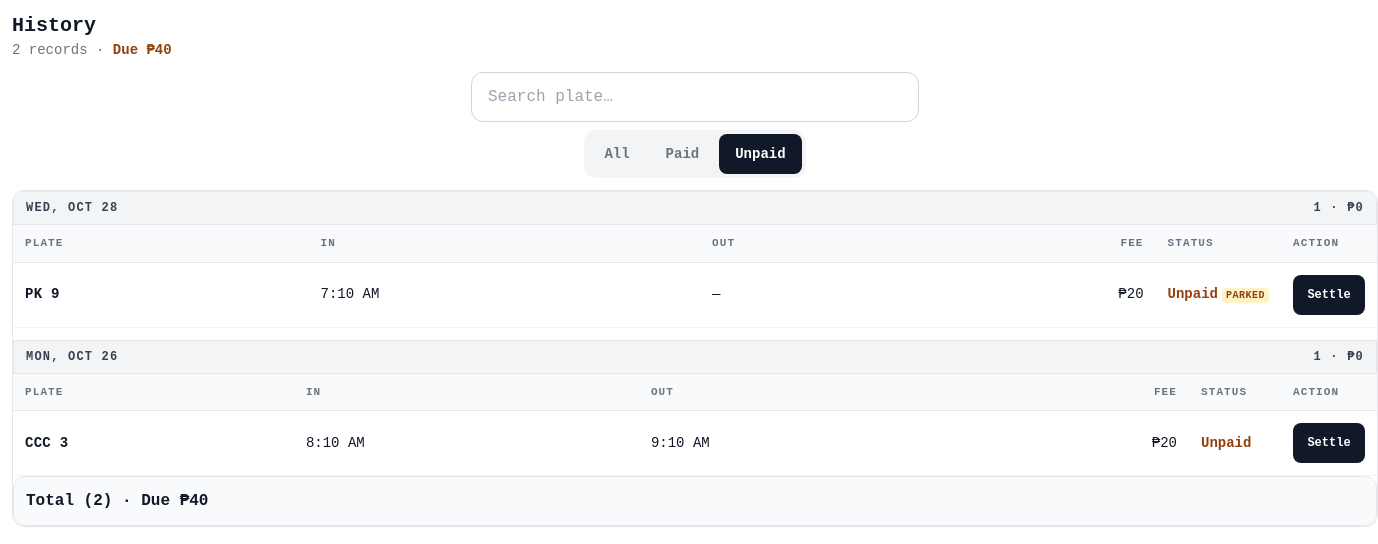
Test case: History actions › settles a still-parked record from the Unpaid view
The width and height of the screenshot is (1378, 544).
Click the button with aria-label "Settle PK 9".
click(1329, 294)  # box [1293,274,1365,314]
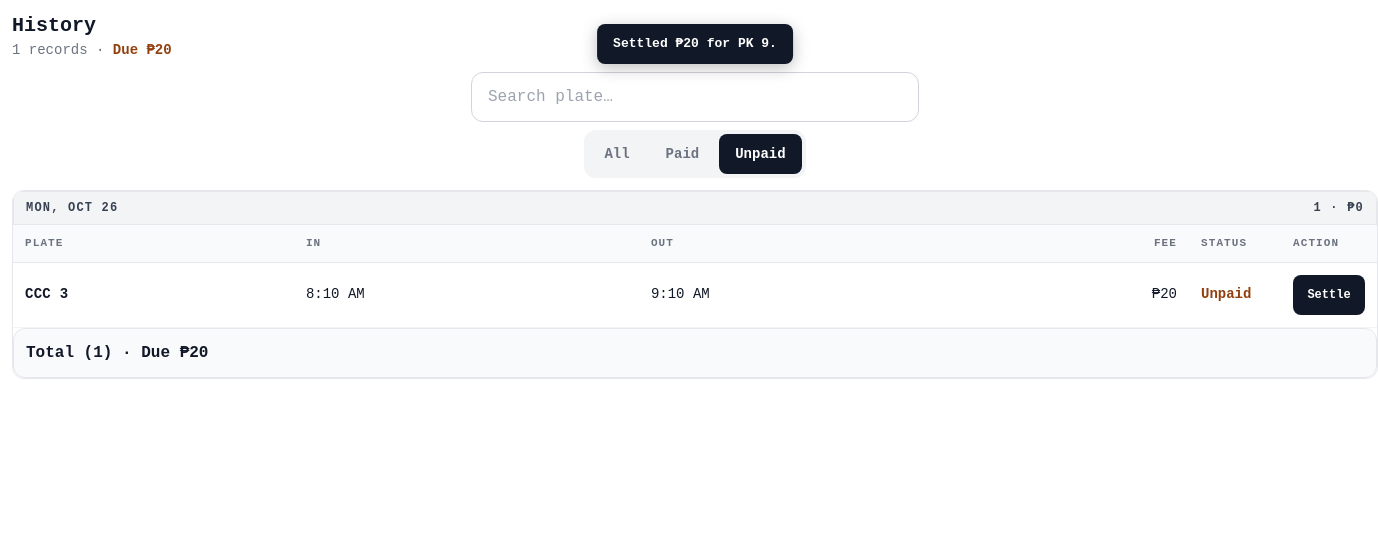
Now the text "Settled ₱20 for PK 9." is shown, box [597,24,793,64]
